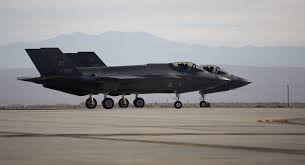fighter: (20, 48, 228, 108)
